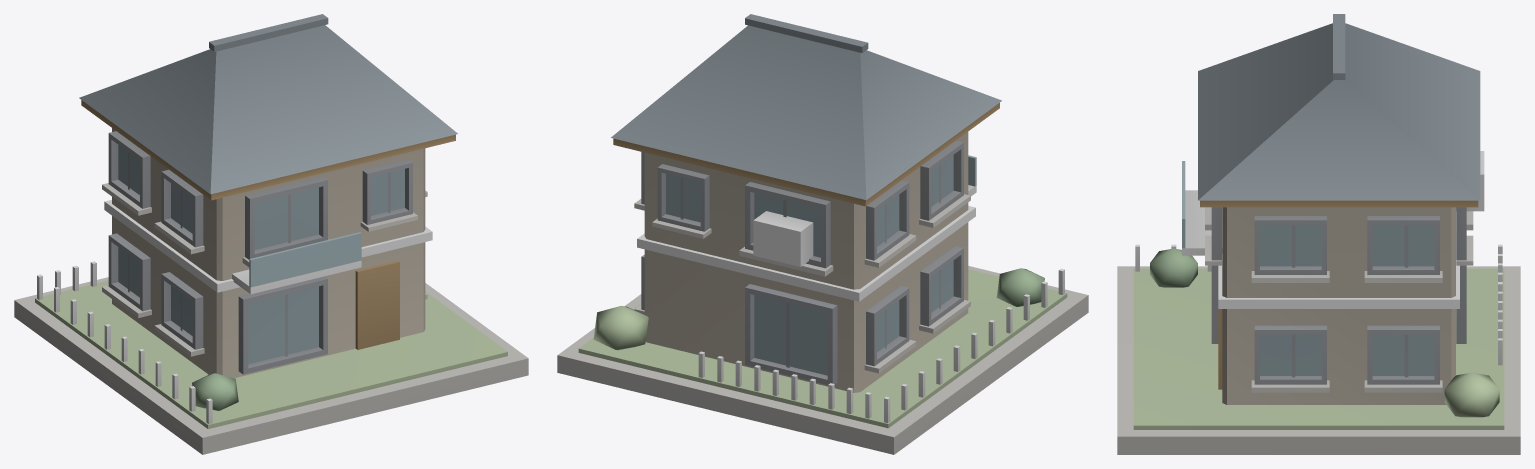
File: detached.glb
3 renders of one model, left to right at view 1: azimuth 30°, elevation 25°; view 2: azimuth 150°, elevation 25°; view 3: azimuth 270°, elevation 25°, orthographic. The views are drawn at different scales.
Visible parts, largest first — view 1: detached; view 2: detached; view 3: detached.
Part boxes in pixels (bbox=[...]): detached: bbox=[14, 14, 528, 454]; detached: bbox=[557, 14, 1088, 454]; detached: bbox=[1117, 14, 1520, 454].
Bounding box in the file's own units: 1 × 0.902 × 1.
